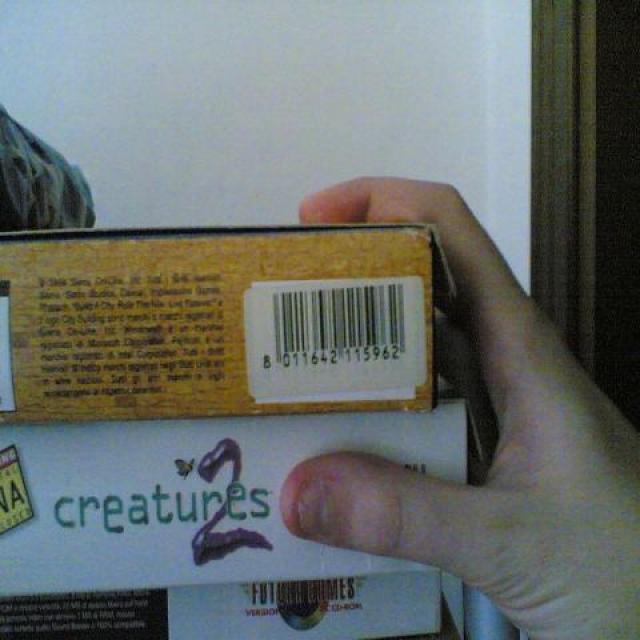Barcode: (243, 277, 421, 379)
